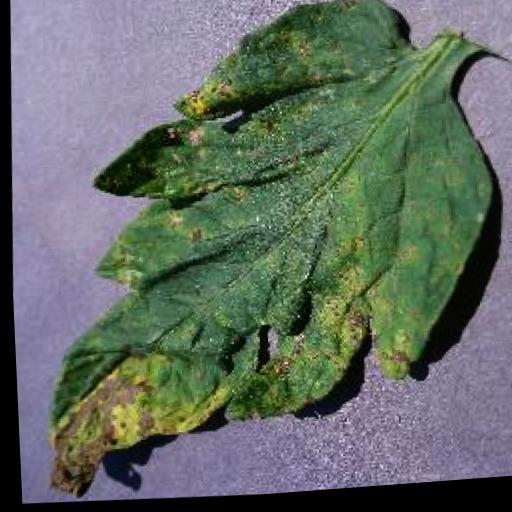Septoria: (21, 0, 505, 511)
